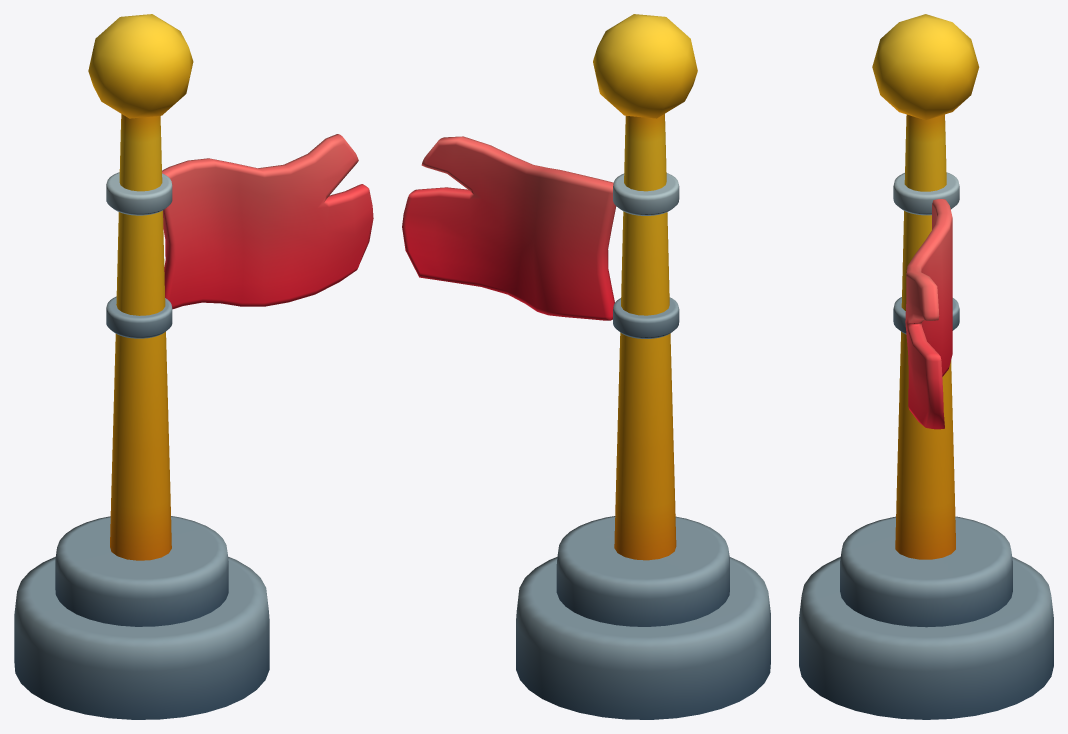
The model's file is CheckpointFlag.fbx.
3 renders of one model, left to right at view 1: azimuth 30°, elevation 25°; view 2: azimuth 150°, elevation 25°; view 3: azimuth 270°, elevation 25°, orthographic.
Parts seen in each view (by area): view 1: Circle.039; view 2: Circle.039; view 3: Circle.039.
Part boxes in pixels (bbox=[...]): Circle.039: bbox=[14, 14, 373, 719]; Circle.039: bbox=[402, 14, 770, 719]; Circle.039: bbox=[799, 14, 1053, 719].
Bounding box in the file's own units: 215 × 387 × 138.
